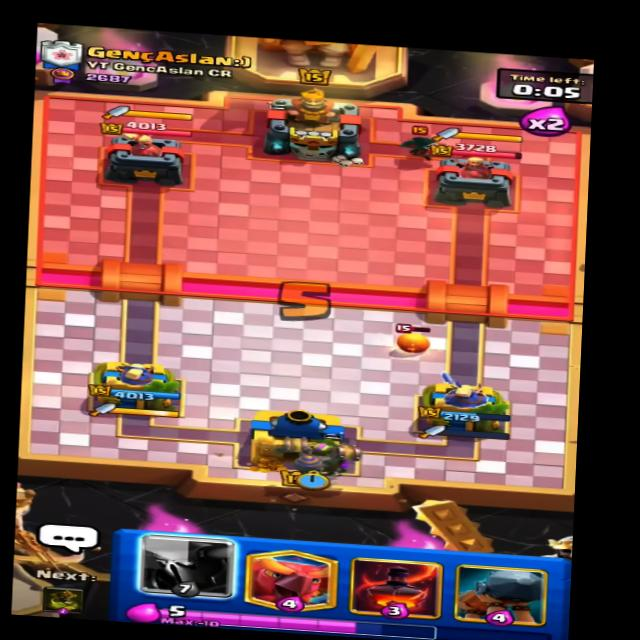bandit: (395, 123, 448, 159)
phoenix-egg: (392, 318, 439, 357)
